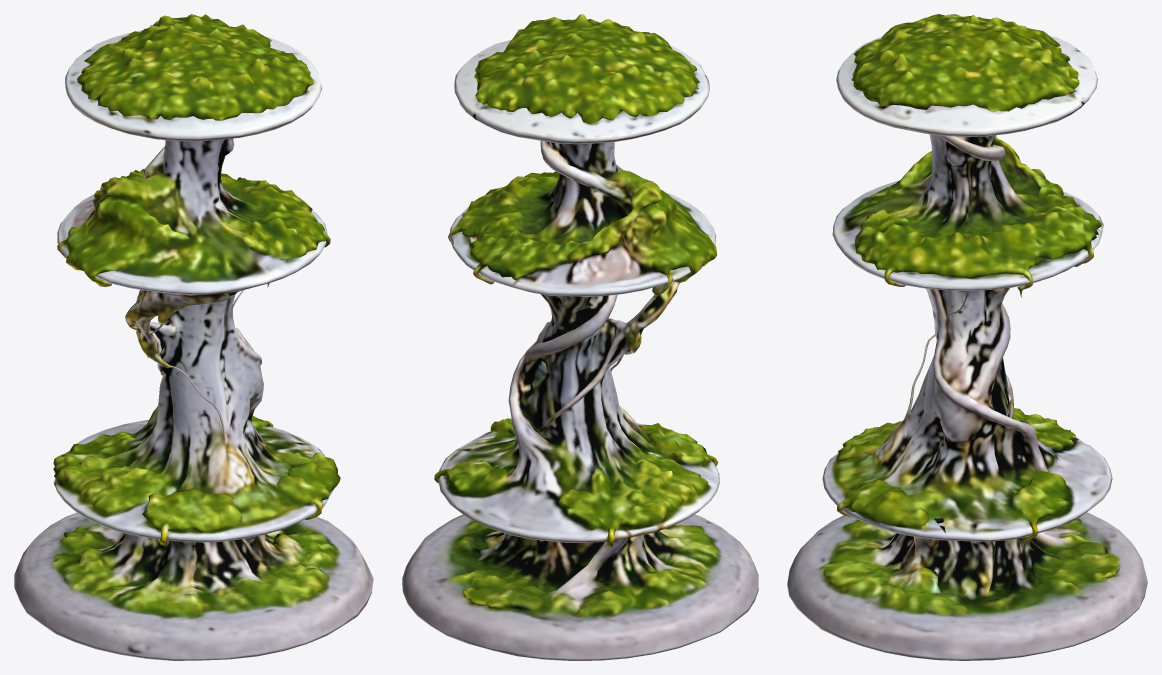
Rendered from canopy_spire_lowpoly.glb.
The picture shows the model from 3 angles, left to right: view 1: azimuth 30°, elevation 25°; view 2: azimuth 150°, elevation 25°; view 3: azimuth 270°, elevation 25°; orthographic projection.
Visible parts, largest first — view 1: geometry_0; view 2: geometry_0; view 3: geometry_0.
Boxes of the visible parts, x1=… form: geometry_0: x1=14, y1=14, x2=373, y2=660; geometry_0: x1=402, y1=14, x2=758, y2=660; geometry_0: x1=787, y1=14, x2=1147, y2=660.
Bounding box in the file's own units: 0.562 × 0.9507 × 0.563.
1 material, 1 textured.
